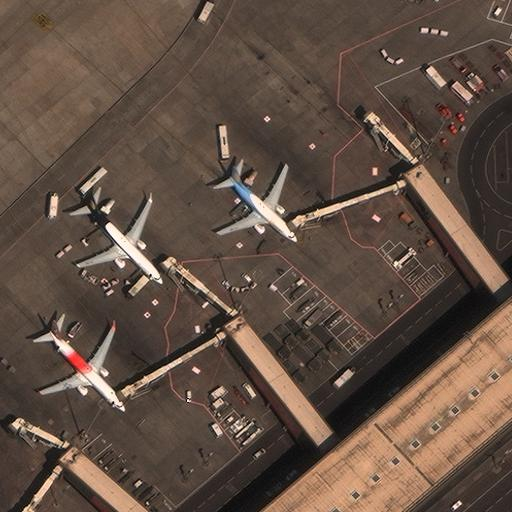Medium Civil Transport: (79, 193, 162, 284), (40, 320, 122, 410), (219, 167, 295, 242)
